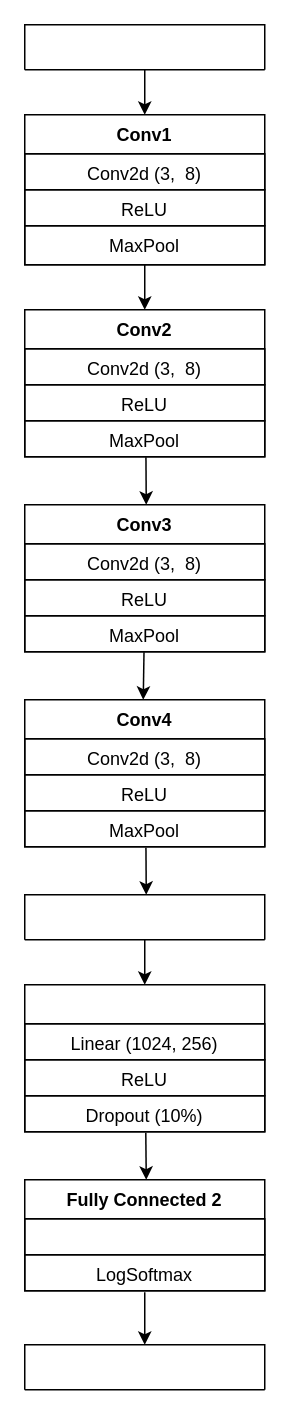
The diagram is 290 pixels wide and 1415 high, and some of its shapes have lost their labels. Here are the shapes that lost their labels. From the top down, the box of each, then its label:
(23, 23, 265, 70): Input (3 x 64 x 64)
(23, 893, 265, 940): Flatten (64 x 4 x 4)
(23, 983, 265, 1132): Fully Connected 1
(23, 1217, 265, 1255): Linear (256, 2)
(23, 1343, 265, 1390): Prediction
